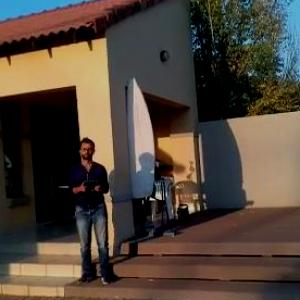follow: (66, 132, 118, 286)
